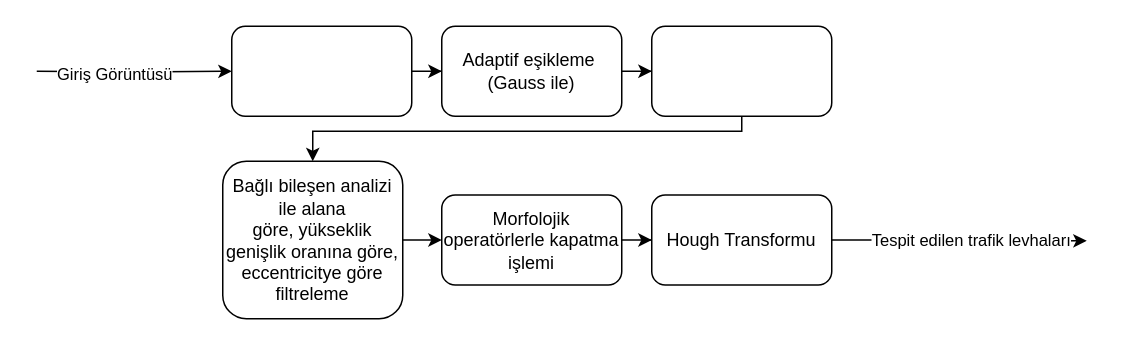
Some shapes in this 1125 by 345 pixel diagram are drawn without their labels. The shapes that lost their labels are listed below. From the top down, each one's centre as x and y in pixels, then its label:
At pixel 321 70: "Gaussian Blur ile yumuşatma".
At pixel 741 70: "Negatif alma".
